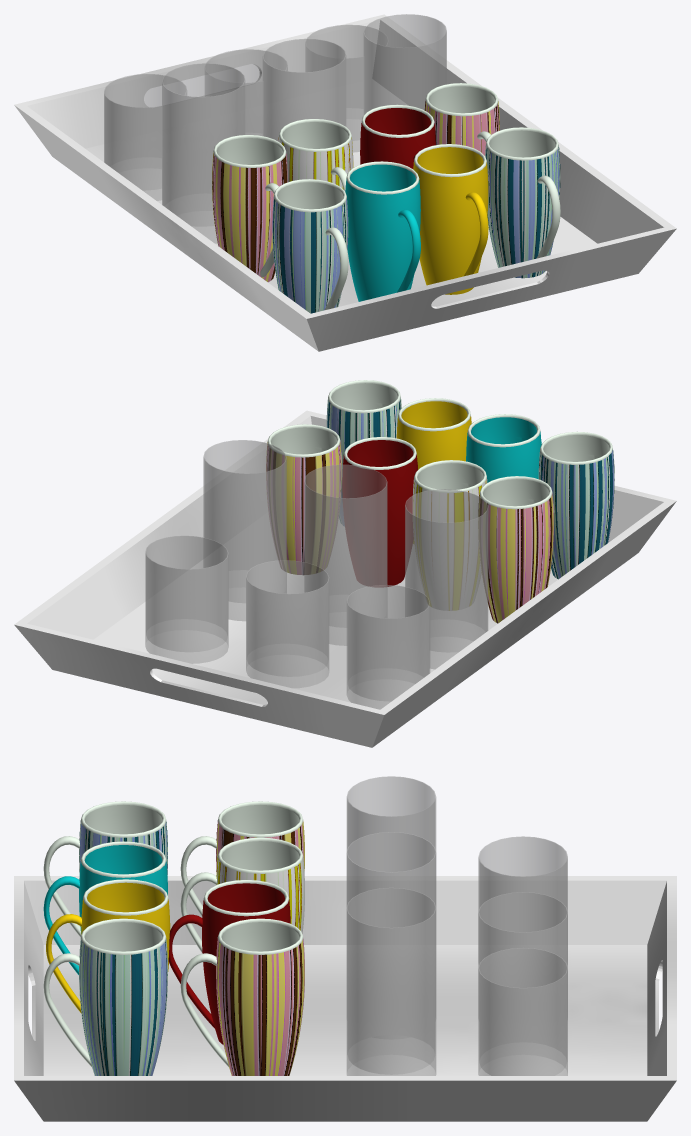
The model's file is Thermos+and+mugs++cups_adjusted.gltf.
The picture shows the model from 3 angles, top to bottom: view 1: azimuth 30°, elevation 25°; view 2: azimuth 150°, elevation 25°; view 3: azimuth 270°, elevation 25°; orthographic projection. The views are drawn at different scales.
Parts seen in each view (by area): view 1: root; view 2: root; view 3: root.
Part boxes in pixels (x1,y1,x2,y2): root: (14,14,676,351); root: (14,380,676,747); root: (14,776,676,1121).
Size of the model in its own units: 0.3192 by 0.1233 by 0.4369.
9 materials, 4 textured.
